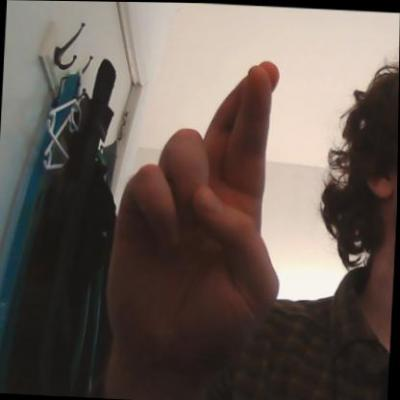hand: (103, 51, 289, 374)
